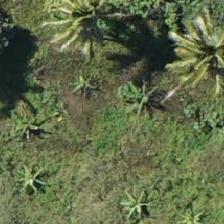coconut_tree: (42, 0, 132, 62), (162, 0, 223, 90)
